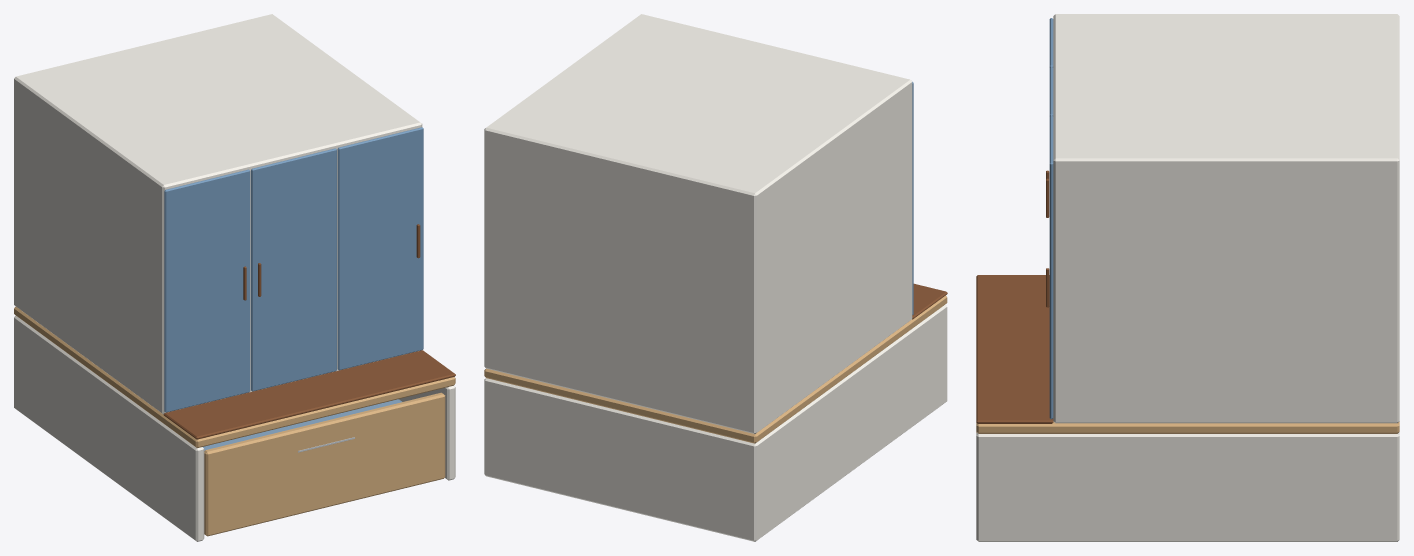
The model's file is sliding_pocket_bed.glb.
3 renders of one model, left to right at view 1: azimuth 30°, elevation 25°; view 2: azimuth 150°, elevation 25°; view 3: azimuth 270°, elevation 25°, orthographic. The views are drawn at different scales.
Parts seen in each view (by area): view 1: sliding_pocket_bed_Body, sliding_pocket_bed_Bed; view 2: sliding_pocket_bed_Body; view 3: sliding_pocket_bed_Body.
Boxes of the visible parts, x1,y1,x2,y2 form: sliding_pocket_bed_Body: (14, 14, 455, 541); sliding_pocket_bed_Bed: (203, 392, 445, 536); sliding_pocket_bed_Body: (484, 14, 947, 541); sliding_pocket_bed_Body: (976, 14, 1399, 541).
Bounding box in the file's own units: 1.8 × 2.2 × 2.2.
